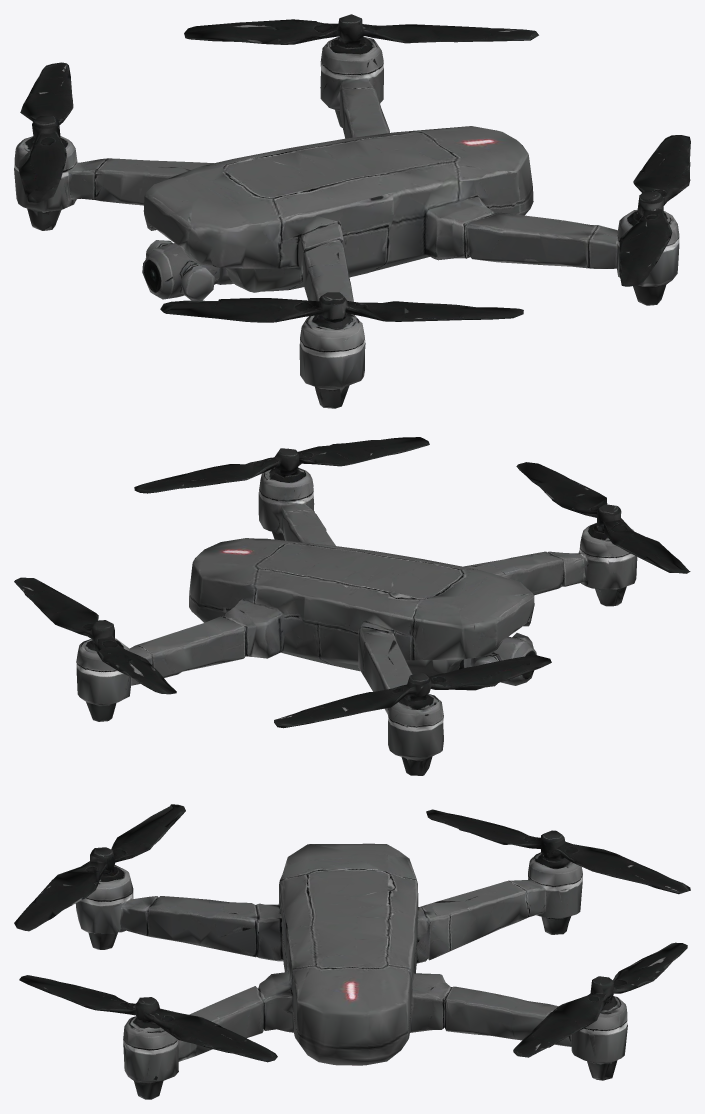
Rendered from drone.glb.
The picture shows the model from 3 angles, top to bottom: view 1: azimuth 30°, elevation 25°; view 2: azimuth 150°, elevation 25°; view 3: azimuth 270°, elevation 25°; orthographic projection. The views are drawn at different scales.
Bounding box in the file's own units: 1.68 × 0.3007 × 1.9.
1 material, 1 textured.
